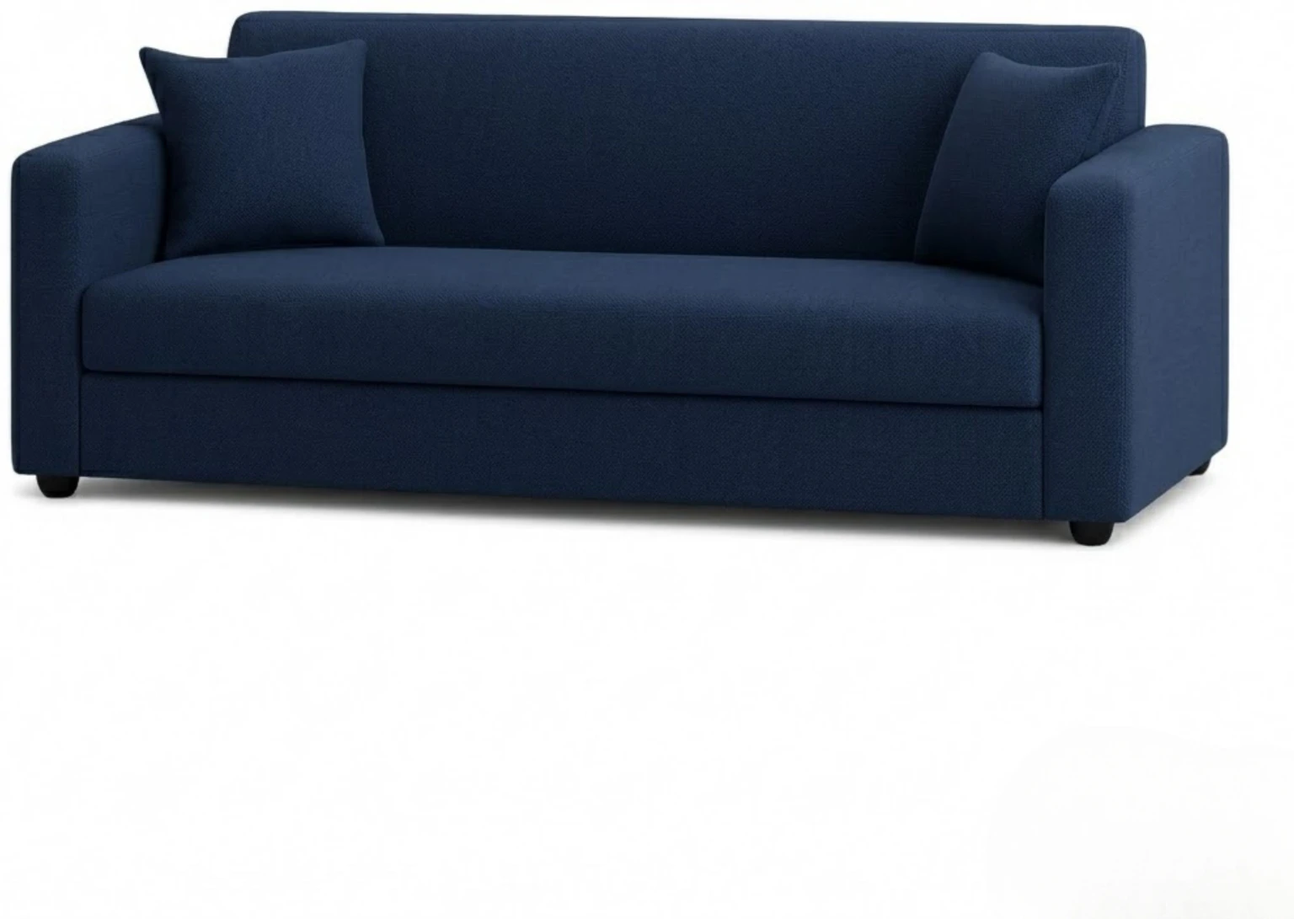3seatersofa: (11, 13, 1227, 545)
backrest: (230, 13, 1143, 258)
base: (19, 372, 1040, 518)
leftarmrest: (1043, 126, 1228, 521)
leg: (1070, 521, 1114, 546), (36, 475, 78, 498)
pillow: (141, 40, 383, 257), (914, 51, 1120, 284)
rightarmrest: (11, 117, 164, 481)
seat: (82, 246, 1043, 408)
